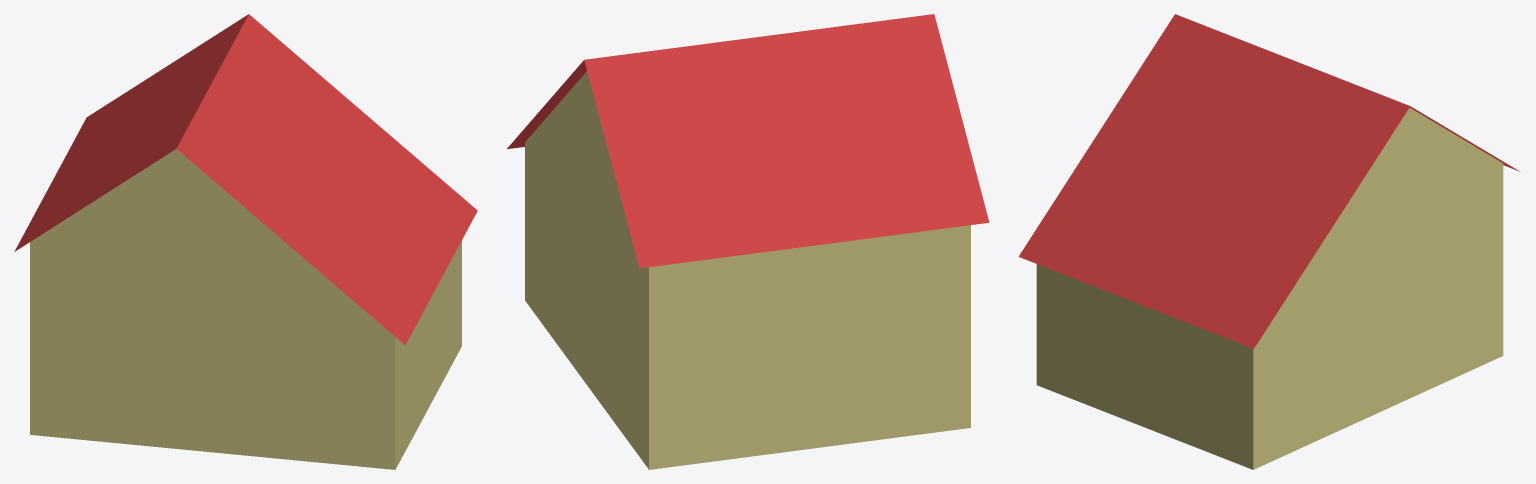
3 renders of one model, left to right at view 1: azimuth 30°, elevation 25°; view 2: azimuth 150°, elevation 25°; view 3: azimuth 270°, elevation 25°, orthographic. The views are drawn at different scales.
Bounding box in the file's own units: 19.57 × 19.42 × 12.78.
